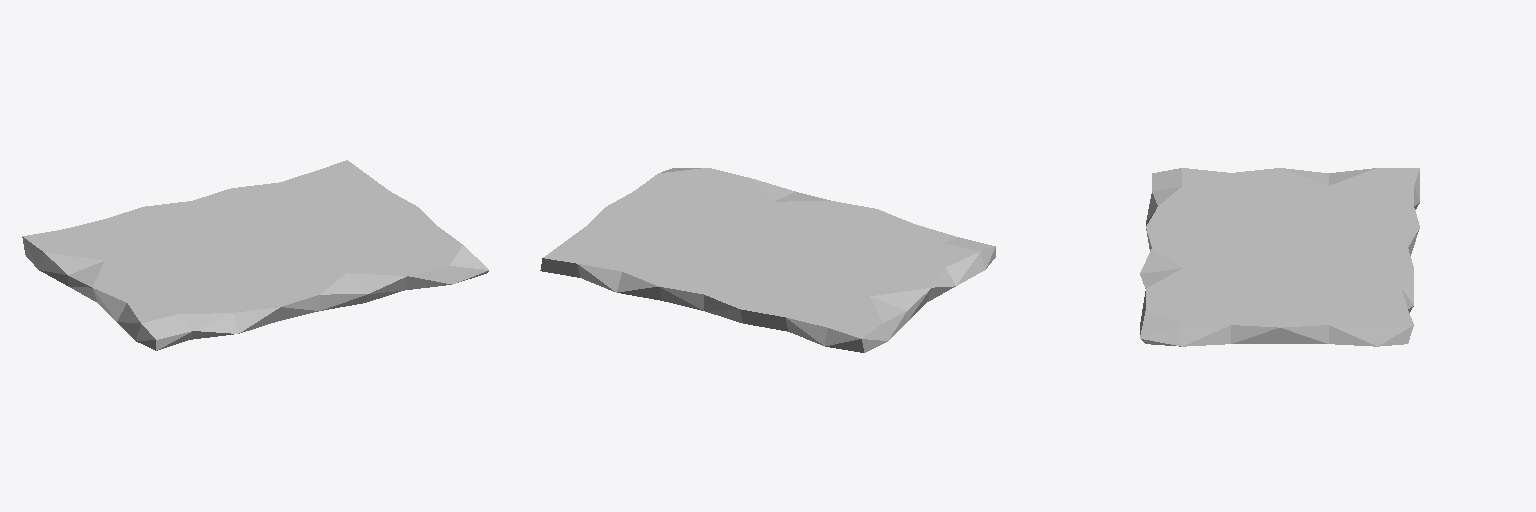
Rendered from tris.obj.
3 views of the same model, side by side, from view 1: azimuth 30°, elevation 25°; view 2: azimuth 150°, elevation 25°; view 3: azimuth 270°, elevation 25° (orthographic).
Visible parts, largest first — view 1: slot1; view 2: slot1; view 3: slot1.
Part boxes in pixels (left/top/right/bottom): slot1: left=22, top=160, right=488, bottom=350; slot1: left=540, top=168, right=995, bottom=352; slot1: left=1140, top=168, right=1419, bottom=346.
Bounding box in the file's own units: 32 × 1.5 × 23.